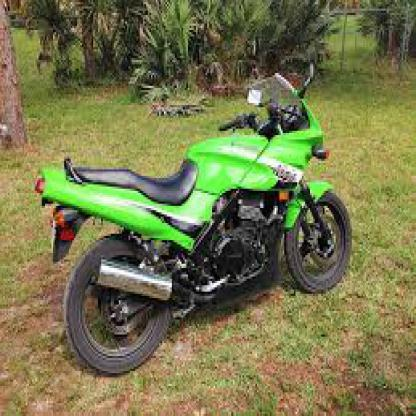Motorcycle: (28, 55, 358, 374)
